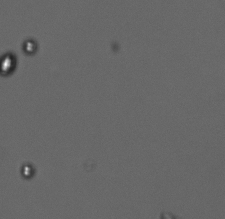Living Cell: (1, 53, 16, 77), (19, 161, 36, 180), (23, 37, 39, 55)
